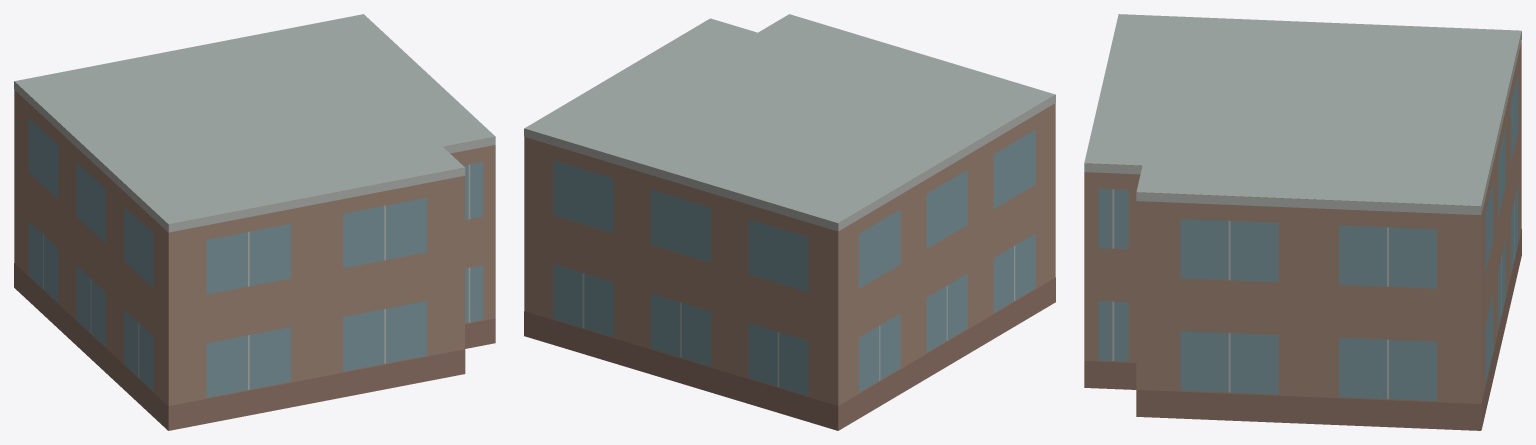
Rendered from survey-upis-32983838.glb.
3 views of the same model, side by side, from view 1: azimuth 30°, elevation 25°; view 2: azimuth 150°, elevation 25°; view 3: azimuth 270°, elevation 25° (orthographic). The views are drawn at different scales.
Parts seen in each view (by area): view 1: survey-upis-32983838.tmp; view 2: survey-upis-32983838.tmp; view 3: survey-upis-32983838.tmp.
Part boxes in pixels (x1,y1,x2,y2): survey-upis-32983838.tmp: (14,14,495,430); survey-upis-32983838.tmp: (524,14,1055,430); survey-upis-32983838.tmp: (1084,14,1521,430).
Bounding box in the file's own units: 11.2 × 6.1 × 10.78.
